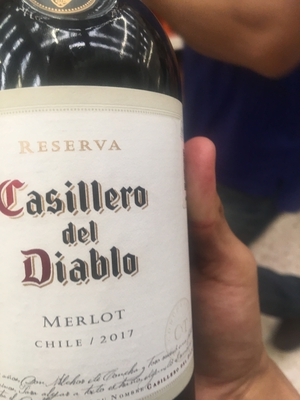casillero del diablo merlot: (1, 73, 199, 398)
